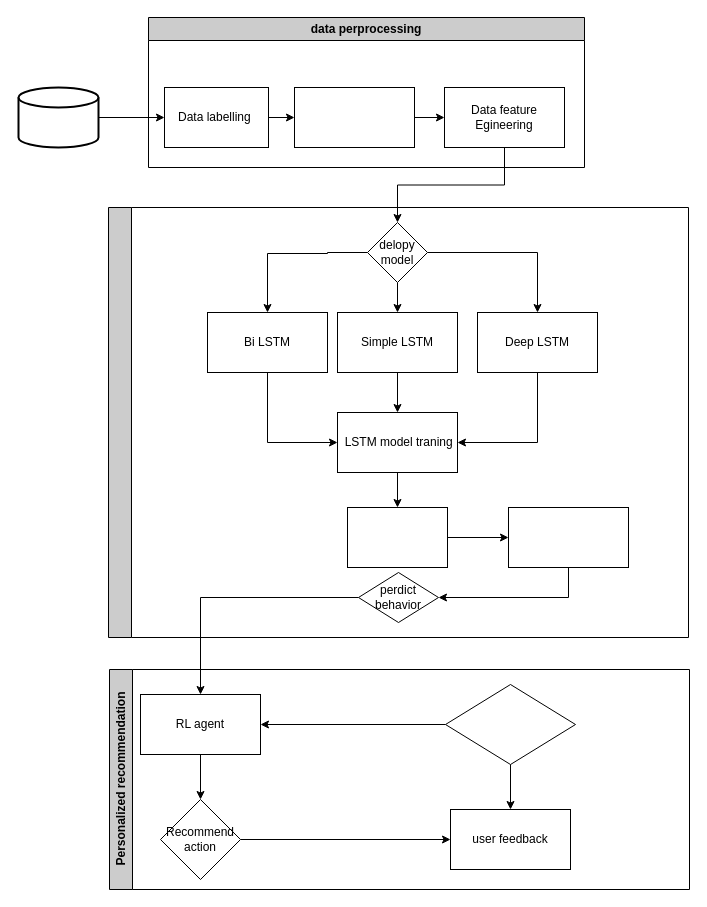
This 707x907 diagram has some shape labels left out. Each missing label, with the box of its shape:
Data Cleaning and sampling: (294, 86, 414, 148)
dataset: (17, 86, 99, 148)
Model Building: (108, 206, 688, 638)
model Evaluation: (346, 506, 448, 568)
Reward/penalty feedback: (444, 684, 576, 764)
Save best Model: (508, 506, 628, 568)
